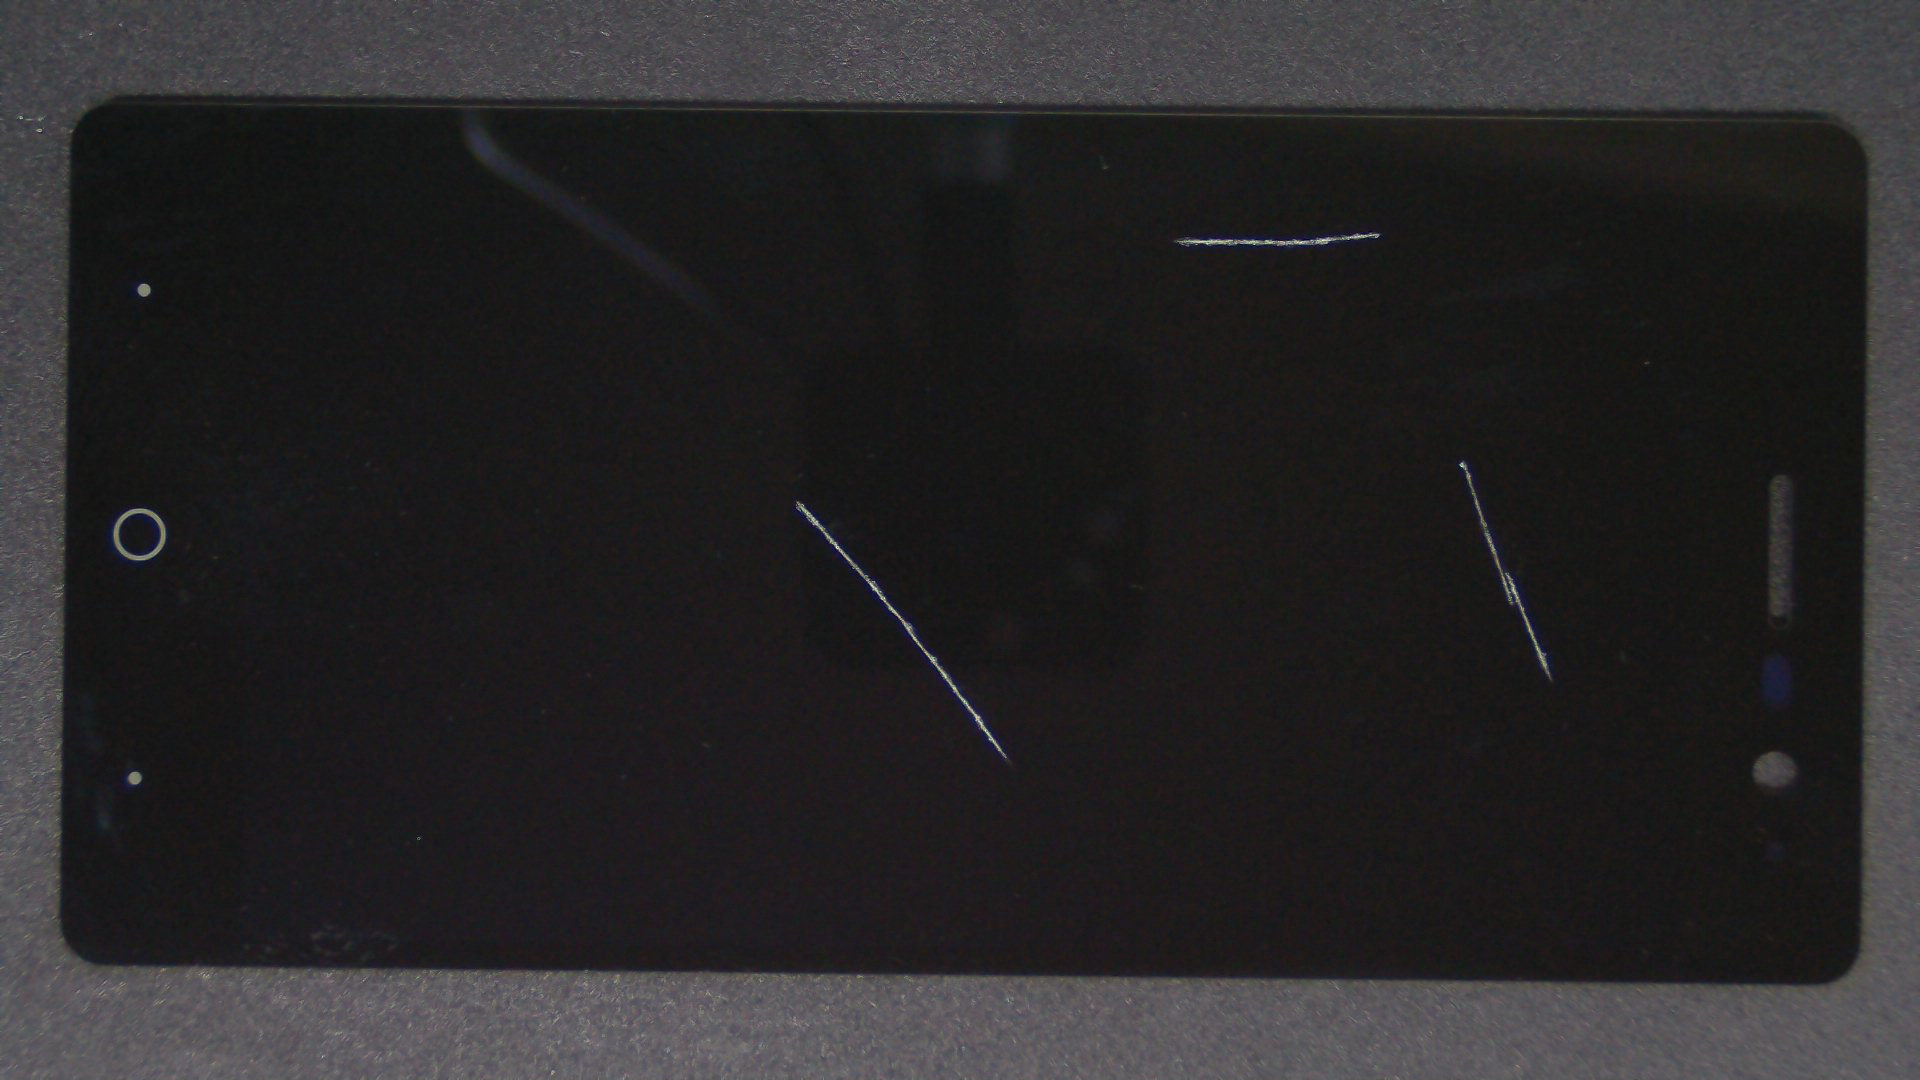defect: (795, 498, 1007, 760), (1457, 459, 1552, 684), (1172, 231, 1382, 247)
